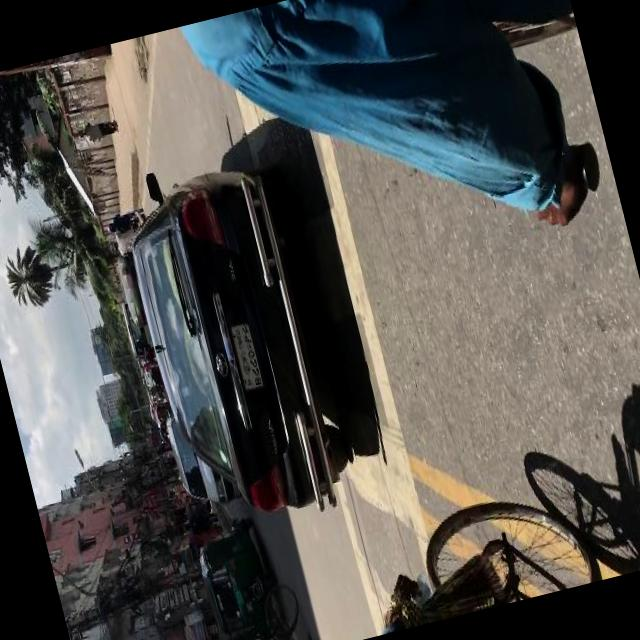car: (107, 136, 366, 541)
motorcycle: (188, 511, 284, 634), (111, 248, 146, 326)
truck: (160, 400, 240, 514), (118, 294, 155, 361)
